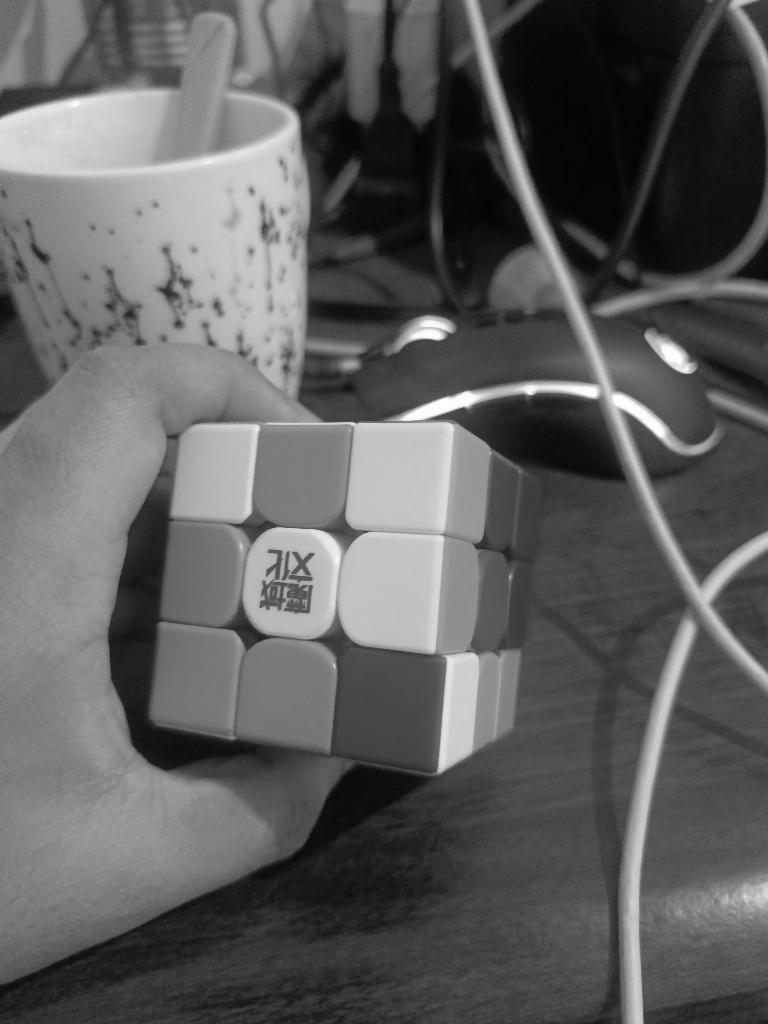rubik: (146, 416, 544, 778)
